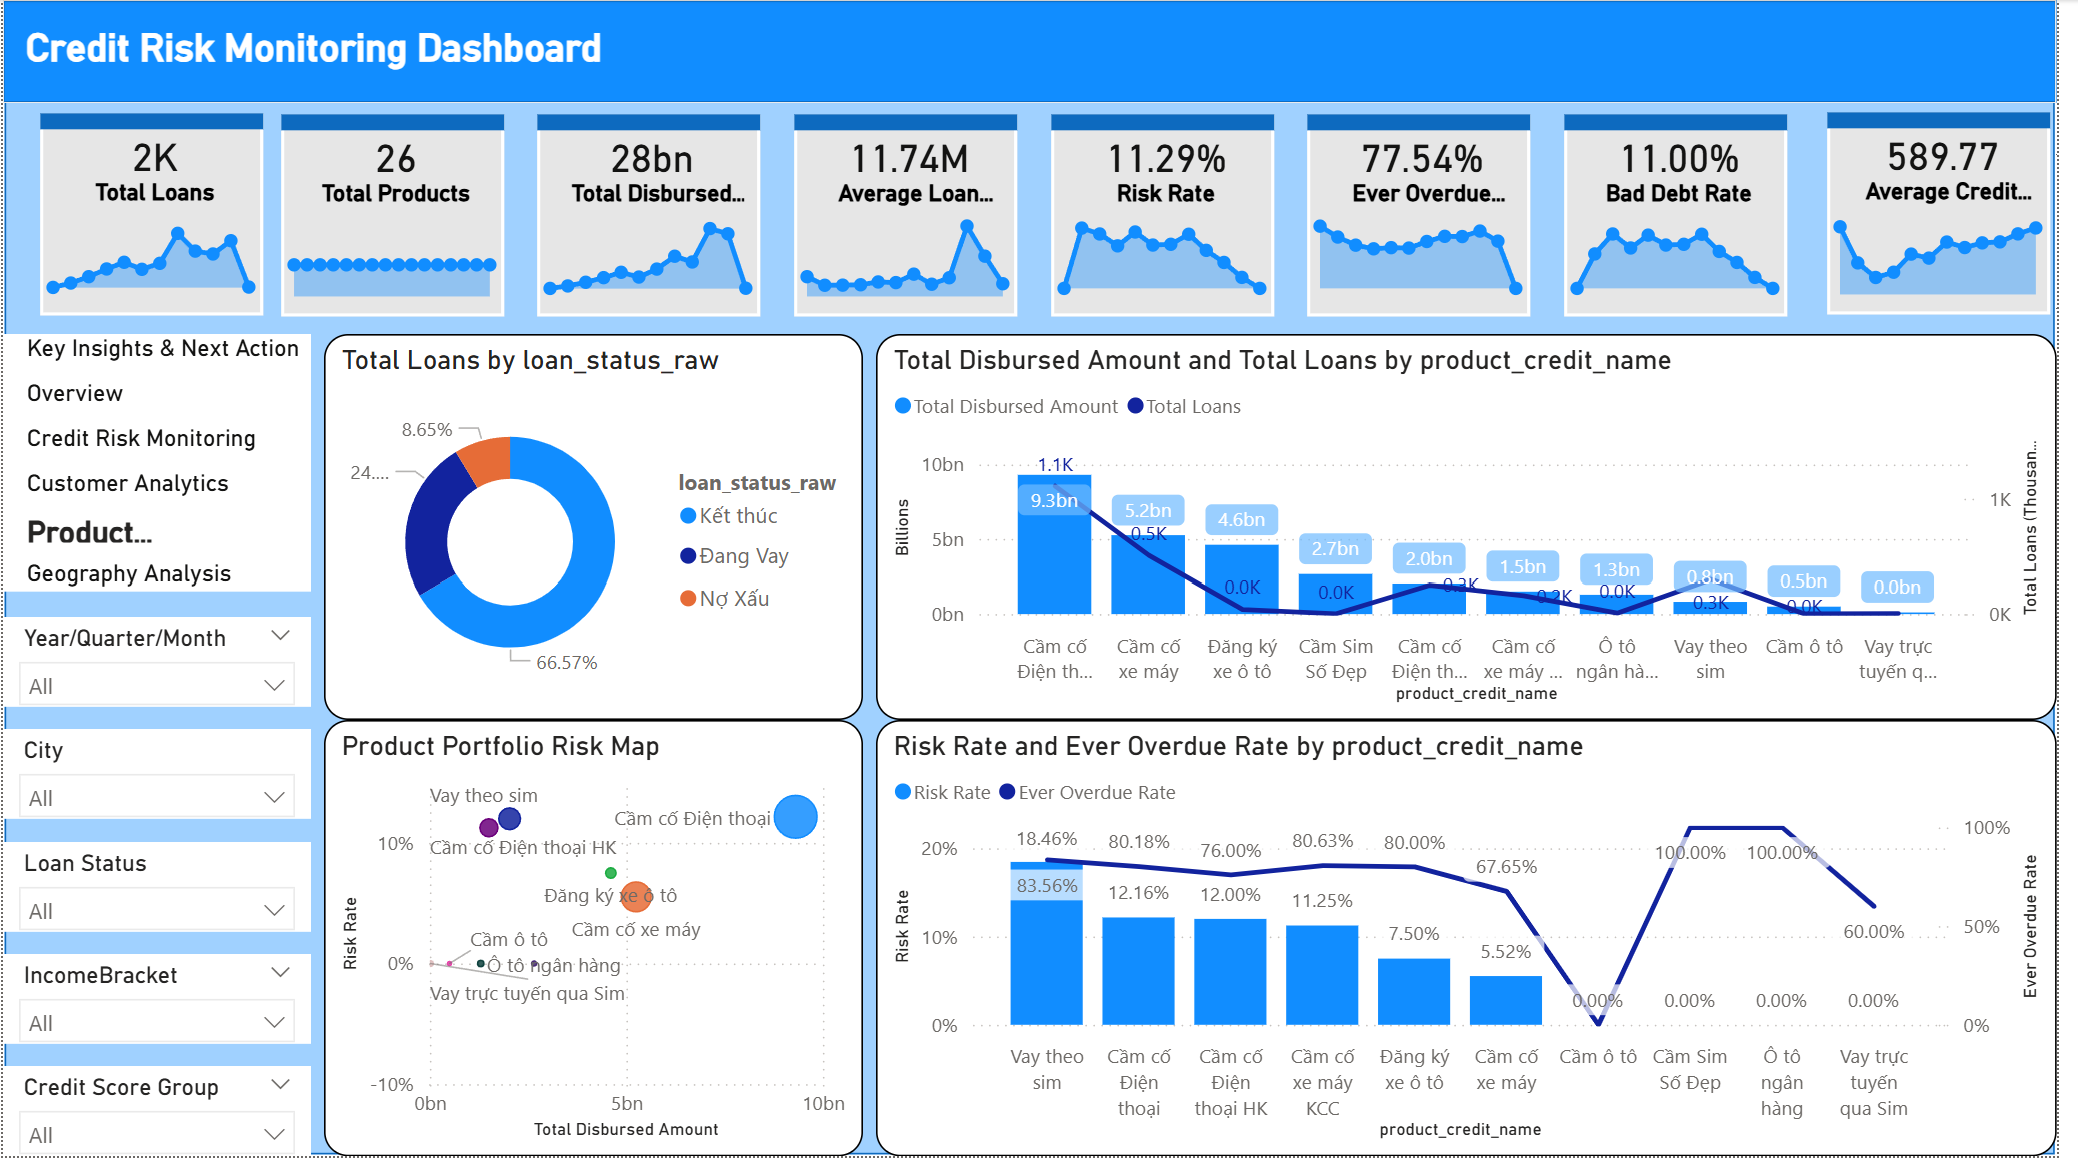

The page's visual inventory and layout, read from the dashboard file:
{"tool":"powerbi","page":{"name":"Product Performance","canvas":[1280,720],"ordinal":4},"visuals":[{"type":"textbox","box":[10,0,280,280],"z":0},{"type":"cardVisual","fields":{"Data":["Measure.Average Credit Score"]},"box":[1120,53.1,173.3,160],"z":0,"group":"g10"},{"type":"cardVisual","fields":{"Data":["Measure.Total Loans"]},"box":[6.1,53.4,173.3,160],"z":0,"group":"g9"},{"type":"cardVisual","fields":{"Data":["Measure.Total Products"]},"box":[156.3,54.4,173.3,160],"z":0,"group":"g3"},{"type":"cardVisual","fields":{"Data":["Measure.Average Loan Amount"]},"box":[476.3,54.4,173.3,160],"z":0,"group":"g5"},{"type":"cardVisual","fields":{"Data":["Measure.Risk Rate"]},"box":[636.3,54.4,173.3,160],"z":0,"group":"g6"},{"type":"cardVisual","fields":{"Data":["Measure.Overdue Rate"]},"box":[796.3,54.4,173.3,160],"z":0,"group":"g7"},{"type":"cardVisual","fields":{"Data":["Measure.Bad Debt Rate"]},"box":[956.3,54.4,173.3,160],"z":0,"group":"g8"},{"type":"slicer","fields":{"Values":["dim_date.date_key.Variation.Date Hierarchy.Year","dim_date.date_key.Variation.Date Hierarchy.Quarter","dim_date.date_key.Variation.Date Hierarchy.Month","dim_date.date_key.Variation.Date Hierarchy.Day"]},"box":[0,384,192,56],"z":0,"group":"g2"},{"type":"shape","box":[0,0,1280,720],"z":1000},{"type":"textbox","box":[9.5,11.1,639.4,46.1],"z":1000,"group":"g1"},{"type":"cardVisual","fields":{"Data":["Measure.Total Disbursed Amount"]},"box":[316.3,54.4,173.3,160],"z":1000,"group":"g4"},{"type":"lineChart","fields":{"Category":["dim_date.date_key.Variation.Date Hierarchy.Year","dim_date.date_key.Variation.Date Hierarchy.Quarter"],"Y":["Measure.Average Credit Score"]},"box":[1130.2,122,152,67.1],"z":1000,"group":"g10"},{"type":"lineChart","fields":{"Category":["dim_date.date_key.Variation.Date Hierarchy.Year","dim_date.date_key.Variation.Date Hierarchy.Quarter"],"Y":["Measure.Total Loans"]},"box":[16.3,122.3,152,67.1],"z":1000,"group":"g9"},{"type":"lineChart","fields":{"Category":["dim_date.date_key.Variation.Date Hierarchy.Year","dim_date.date_key.Variation.Date Hierarchy.Quarter"],"Y":["Measure.Total Products"]},"box":[166.5,123.3,152,67.1],"z":1000,"group":"g3"},{"type":"lineChart","fields":{"Category":["dim_date.date_key.Variation.Date Hierarchy.Year","dim_date.date_key.Variation.Date Hierarchy.Quarter"],"Y":["Measure.Average Loan Amount"]},"box":[486.5,123.3,152,67.1],"z":1000,"group":"g5"},{"type":"lineChart","fields":{"Category":["dim_date.date_key.Variation.Date Hierarchy.Year","dim_date.date_key.Variation.Date Hierarchy.Quarter"],"Y":["Measure.Risk Rate"]},"box":[646.5,123.3,152,67.1],"z":1000,"group":"g6"},{"type":"lineChart","fields":{"Category":["dim_date.date_key.Variation.Date Hierarchy.Year","dim_date.date_key.Variation.Date Hierarchy.Quarter"],"Y":["Measure.Overdue Rate"]},"box":[806.5,123.3,152,67.1],"z":1000,"group":"g7"},{"type":"lineChart","fields":{"Category":["dim_date.date_key.Variation.Date Hierarchy.Year","dim_date.date_key.Variation.Date Hierarchy.Quarter"],"Y":["Measure.Bad Debt Rate"]},"box":[966.5,123.3,152,67.1],"z":1000,"group":"g8"},{"type":"slicer","fields":{"Values":["fact_loans.loan_status"]},"box":[0,524,192,56],"z":1000,"group":"g2"},{"type":"shape","box":[0,0,1280,64],"z":2000},{"type":"lineChart","fields":{"Category":["dim_date.date_key.Variation.Date Hierarchy.Year","dim_date.date_key.Variation.Date Hierarchy.Quarter"],"Y":["Measure.Total Disbursed Amount"]},"box":[326.5,123.3,152,67.1],"z":2000,"group":"g4"},{"type":"slicer","fields":{"Values":["dim_customer.credit_score_group"]},"box":[0,664,192,56],"z":2000,"group":"g2"},{"type":"group","id":"g1","title":"Group 1","box":[9.5,11.1,639.4,46.1],"z":3000},{"type":"slicer","fields":{"Values":["dim_customer.income_bracket"]},"box":[0,594,192,56],"z":3000,"group":"g2"},{"type":"pageNavigator","box":[0,208,192,160],"z":4000},{"type":"slicer","fields":{"Values":["dim_geography.city_name"]},"box":[0,454,192,56],"z":4000,"group":"g2"},{"type":"group","id":"g2","title":"Group 2","box":[0,384,192,336],"z":5000},{"type":"group","id":"g3","title":"Total Loan","box":[156.3,54.4,160,160],"z":6000},{"type":"group","id":"g4","title":"Total Loan","box":[316.3,54.4,173.3,160],"z":7000},{"type":"group","id":"g5","title":"Total Loan","box":[476.3,54.4,160,160],"z":8000},{"type":"group","id":"g6","title":"Total Loan","box":[636.3,54.4,160,160],"z":9000},{"type":"group","id":"g7","title":"Total Loan","box":[796.3,54.4,160,160],"z":10000},{"type":"group","id":"g8","title":"Total Loan","box":[956.3,54.4,160,160],"z":11000},{"type":"group","id":"g9","title":"Total Loan","box":[6.1,53.4,160,160],"z":12000},{"type":"group","id":"g10","title":"Total Loan","box":[1120,53.1,160,160],"z":13000},{"type":"donutChart","fields":{"Category":["fact_loans.loan_status_raw"],"Y":["Measure.Total Loans"]},"box":[200,208,336,240],"z":14000},{"type":"lineClusteredColumnComboChart","fields":{"Category":["dim_product.product_credit_name"],"Y":["Measure.Total Disbursed Amount"],"Y2":["Measure.Total Loans"]},"box":[544,208,736,240],"z":15000},{"type":"lineClusteredColumnComboChart","fields":{"Category":["dim_product.product_credit_name"],"Y":["Measure.Risk Rate"],"Y2":["Measure.Overdue Rate"]},"box":[544,448,736,272],"z":16000},{"type":"scatterChart","title":"Product Portfolio Risk Map","fields":{"Size":["Measure.Total Loans"],"Series":["dim_product.product_credit_name"],"Y":["Measure.Risk Rate"],"X":["Measure.Total Disbursed Amount"]},"box":[200,448,336,272],"z":17000}]}

Visuals, with their boxes in screenshot pixels (x1, y1, x2, y2), scaled from the page's 1280x720 canvas onto the 2078x1162 screenshot:
textbox: x1=16 y1=0 x2=471 y2=452
cardVisual - Measure.Average Credit Score: x1=1818 y1=86 x2=2077 y2=344
cardVisual - Measure.Total Loans: x1=10 y1=86 x2=291 y2=344
cardVisual - Measure.Total Products: x1=254 y1=88 x2=535 y2=346
cardVisual - Measure.Average Loan Amount: x1=773 y1=88 x2=1055 y2=346
cardVisual - Measure.Risk Rate: x1=1033 y1=88 x2=1314 y2=346
cardVisual - Measure.Overdue Rate: x1=1293 y1=88 x2=1574 y2=346
cardVisual - Measure.Bad Debt Rate: x1=1552 y1=88 x2=1834 y2=346
slicer - dim_date.date_key.Variation.Date Hierarchy.Year x dim_date.date_key.Variation.Date Hierarchy.Quarter: x1=0 y1=620 x2=312 y2=710
shape: x1=0 y1=0 x2=2077 y2=1161
textbox: x1=15 y1=18 x2=1053 y2=92
cardVisual - Measure.Total Disbursed Amount: x1=513 y1=88 x2=795 y2=346
lineChart - dim_date.date_key.Variation.Date Hierarchy.Year x dim_date.date_key.Variation.Date Hierarchy.Quarter: x1=1835 y1=197 x2=2077 y2=305
lineChart - dim_date.date_key.Variation.Date Hierarchy.Year x dim_date.date_key.Variation.Date Hierarchy.Quarter: x1=26 y1=197 x2=273 y2=306
lineChart - dim_date.date_key.Variation.Date Hierarchy.Year x dim_date.date_key.Variation.Date Hierarchy.Quarter: x1=270 y1=199 x2=517 y2=307
lineChart - dim_date.date_key.Variation.Date Hierarchy.Year x dim_date.date_key.Variation.Date Hierarchy.Quarter: x1=790 y1=199 x2=1037 y2=307
lineChart - dim_date.date_key.Variation.Date Hierarchy.Year x dim_date.date_key.Variation.Date Hierarchy.Quarter: x1=1050 y1=199 x2=1296 y2=307
lineChart - dim_date.date_key.Variation.Date Hierarchy.Year x dim_date.date_key.Variation.Date Hierarchy.Quarter: x1=1309 y1=199 x2=1556 y2=307
lineChart - dim_date.date_key.Variation.Date Hierarchy.Year x dim_date.date_key.Variation.Date Hierarchy.Quarter: x1=1569 y1=199 x2=1816 y2=307
slicer - fact_loans.loan_status: x1=0 y1=846 x2=312 y2=936
shape: x1=0 y1=0 x2=2077 y2=103
lineChart - dim_date.date_key.Variation.Date Hierarchy.Year x dim_date.date_key.Variation.Date Hierarchy.Quarter: x1=530 y1=199 x2=777 y2=307
slicer - dim_customer.credit_score_group: x1=0 y1=1072 x2=312 y2=1161
"Group 1" group: x1=15 y1=18 x2=1053 y2=92
slicer - dim_customer.income_bracket: x1=0 y1=959 x2=312 y2=1049
pageNavigator: x1=0 y1=336 x2=312 y2=594
slicer - dim_geography.city_name: x1=0 y1=733 x2=312 y2=823
"Group 2" group: x1=0 y1=620 x2=312 y2=1161
"Total Loan" group: x1=254 y1=88 x2=513 y2=346
"Total Loan" group: x1=513 y1=88 x2=795 y2=346
"Total Loan" group: x1=773 y1=88 x2=1033 y2=346
"Total Loan" group: x1=1033 y1=88 x2=1293 y2=346
"Total Loan" group: x1=1293 y1=88 x2=1552 y2=346
"Total Loan" group: x1=1552 y1=88 x2=1812 y2=346
"Total Loan" group: x1=10 y1=86 x2=270 y2=344
"Total Loan" group: x1=1818 y1=86 x2=2077 y2=344
donutChart - fact_loans.loan_status_raw x Measure.Total Loans: x1=325 y1=336 x2=870 y2=723
lineClusteredColumnComboChart - dim_product.product_credit_name x Measure.Total Disbursed Amount: x1=883 y1=336 x2=2077 y2=723
lineClusteredColumnComboChart - dim_product.product_credit_name x Measure.Risk Rate: x1=883 y1=723 x2=2077 y2=1161
"Product Portfolio Risk Map" scatterChart: x1=325 y1=723 x2=870 y2=1161
